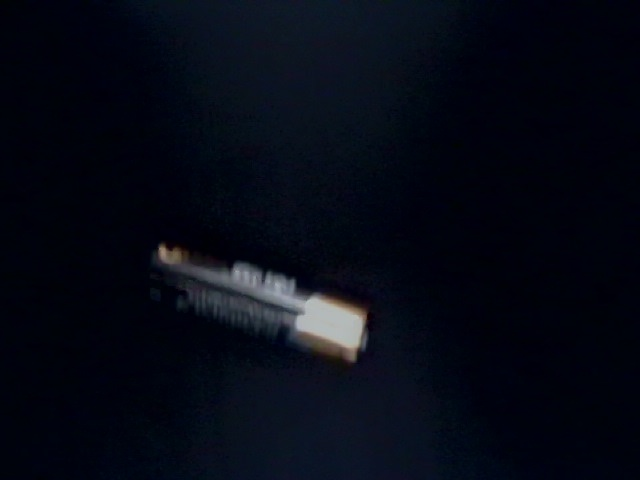YHLJ: (442, 425, 518, 480)
